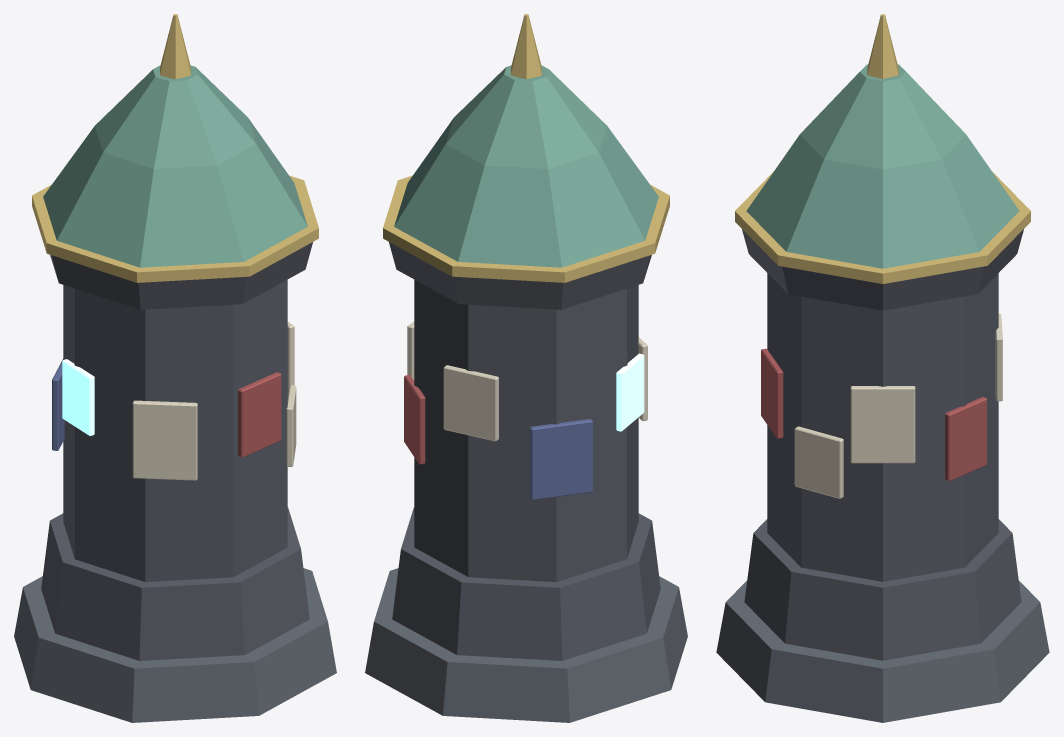
File: outdoor_kiosk.glb
3 renders of one model, left to right at view 1: azimuth 30°, elevation 25°; view 2: azimuth 150°, elevation 25°; view 3: azimuth 270°, elevation 25°, orthographic.
Parts seen in each view (by area): view 1: Outdoor_Kiosk; view 2: Outdoor_Kiosk; view 3: Outdoor_Kiosk.
Boxes of the visible parts, x1,y1,x2,y2 form: Outdoor_Kiosk: (14, 14, 336, 722); Outdoor_Kiosk: (365, 14, 687, 722); Outdoor_Kiosk: (716, 14, 1049, 722).
Size of the model in its own units: 1.99 by 4.2 by 1.99.
